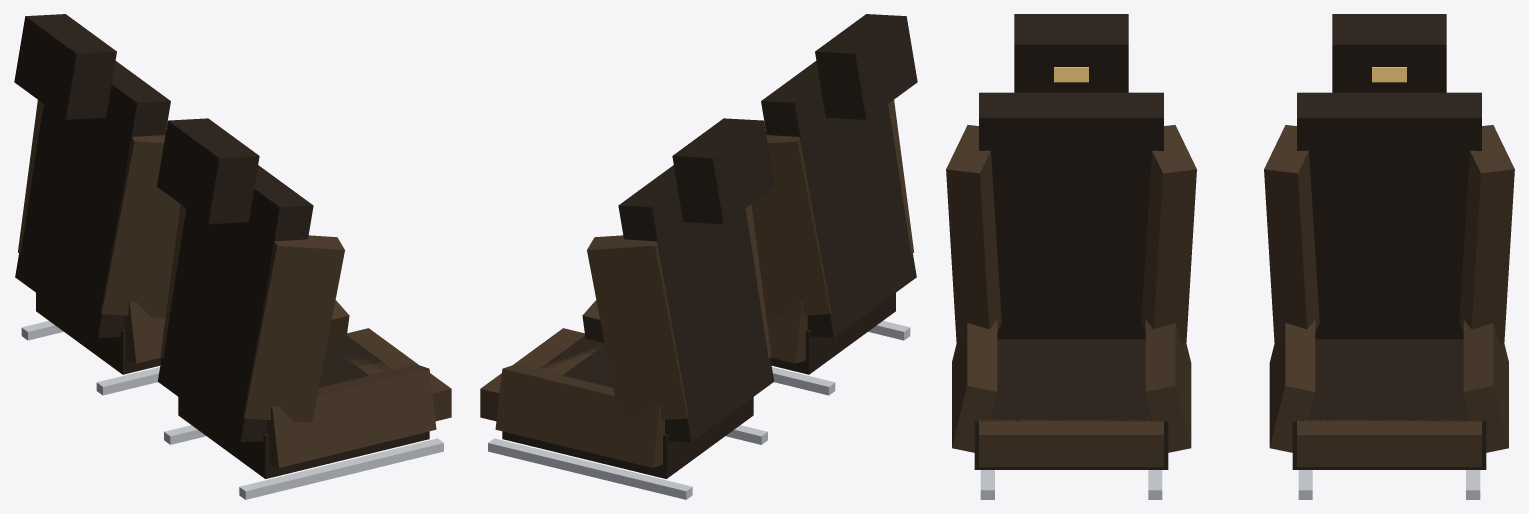
File: seat_luxury_massage.glb
3 views of the same model, side by side, from view 1: azimuth 30°, elevation 25°; view 2: azimuth 150°, elevation 25°; view 3: azimuth 270°, elevation 25° (orthographic). The views are drawn at different scales.
Visible parts, largest first — view 1: PassengerSeat, DriverSeat; view 2: DriverSeat, PassengerSeat; view 3: DriverSeat, PassengerSeat.
Boxes of the visible parts, x1=… form: PassengerSeat: x1=157, y1=118, x2=451, y2=499; DriverSeat: x1=14, y1=14, x2=180, y2=395; DriverSeat: x1=480, y1=118, x2=774, y2=499; PassengerSeat: x1=751, y1=14, x2=917, y2=395; DriverSeat: x1=1264, y1=14, x2=1514, y2=499; PassengerSeat: x1=946, y1=14, x2=1196, y2=499.
Bounding box in the file's own units: 0.6651 × 0.9313 × 1.29.
